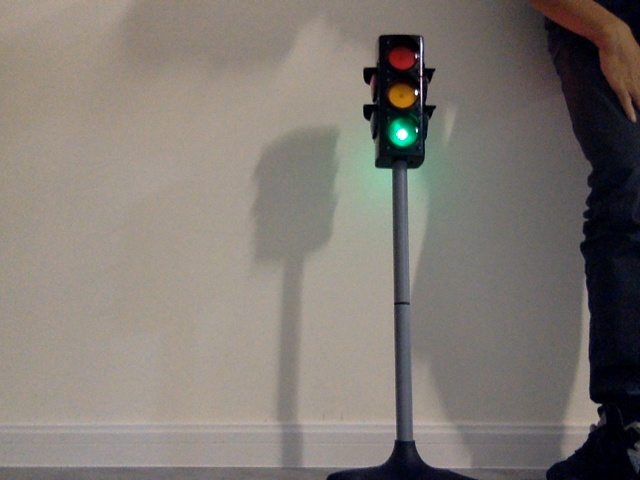green: (377, 39, 421, 156)
